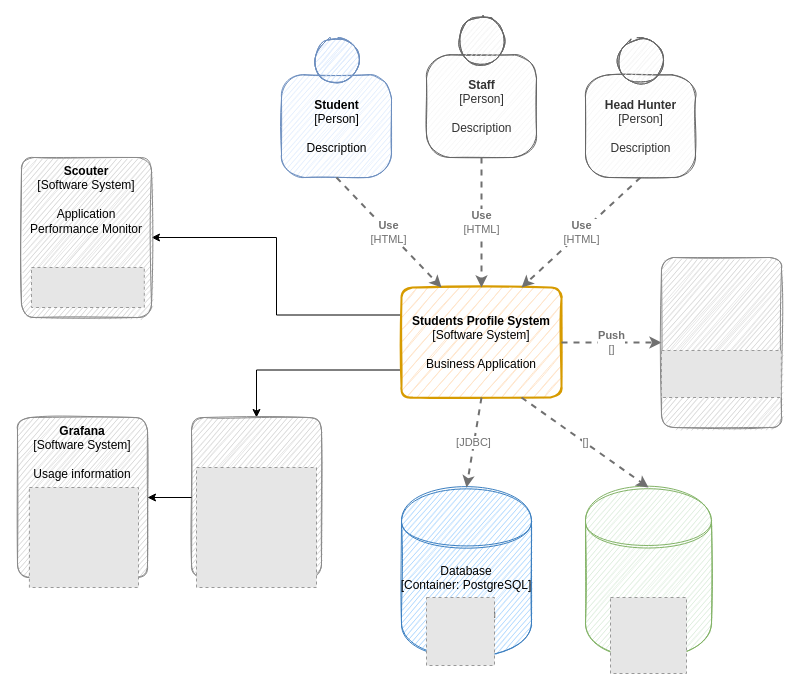
Some shapes in this 799 by 691 pixel diagram are drawn without their labels. Grey dashed boxes stand in for pictures. Here are the shapes that lost their labels. From the top down, the box of each, then its label:
(660, 256, 782, 428): RabbitMQ [Software System] Stream Message Queue
(190, 416, 322, 578): Prometheus [Software System] Usage information
(584, 486, 712, 658): Database [Container: MongoDB]
